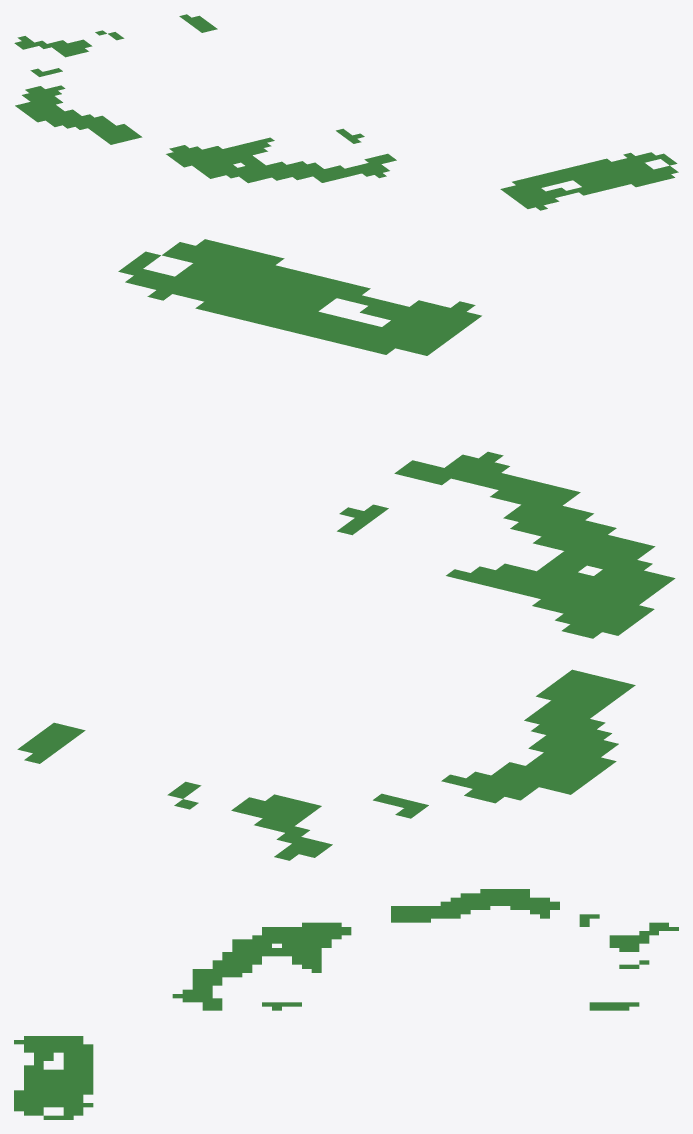
Rendered from Isl-orc1-TreesArea.fbx.
3 renders of one model, top to bottom at view 1: azimuth 30°, elevation 25°; view 2: azimuth 150°, elevation 25°; view 3: azimuth 270°, elevation 25°, orthographic. The views are drawn at different scales.
Parts seen in each view (by area): view 1: Isl-orc1-TreesArea; view 2: Isl-orc1-TreesArea; view 3: Isl-orc1-TreesArea.
Boxes of the visible parts, x1,y1,x2,y2 form: Isl-orc1-TreesArea: (14, 14, 678, 210); Isl-orc1-TreesArea: (17, 239, 675, 860); Isl-orc1-TreesArea: (14, 889, 678, 1119).
Size of the model in its own units: 55 by 0 by 67.
